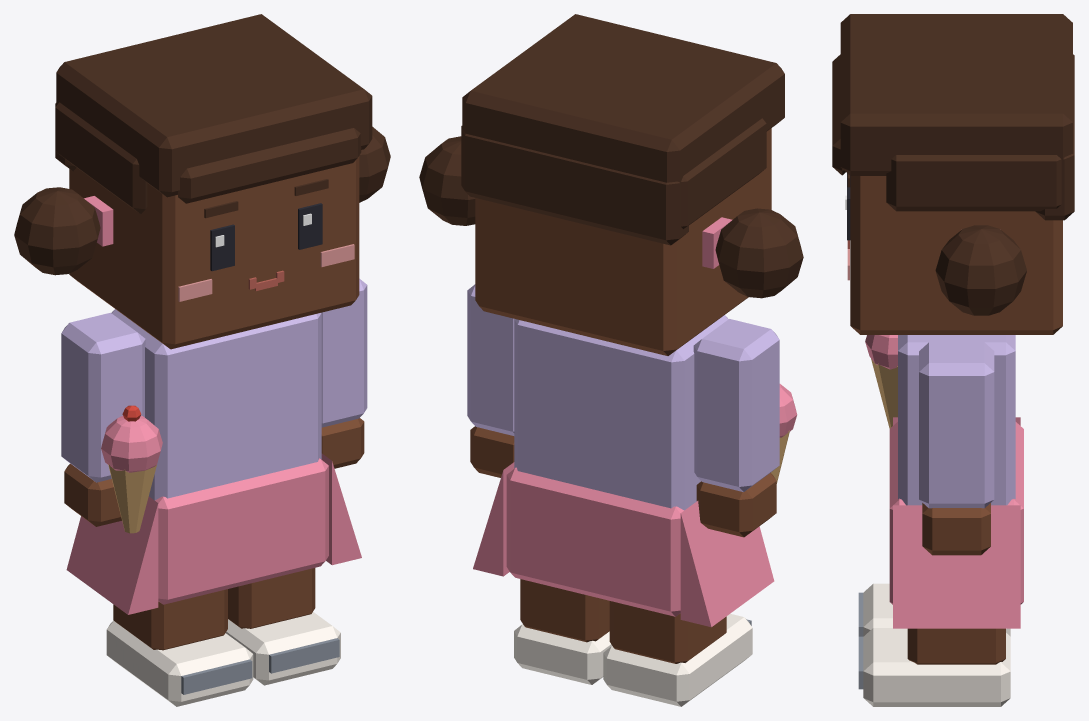
File: CatCafe_NPC_Customer_G.glb
3 renders of one model, left to right at view 1: azimuth 30°, elevation 25°; view 2: azimuth 150°, elevation 25°; view 3: azimuth 270°, elevation 25°, orthographic. The views are drawn at different scales.
Parts seen in each view (by area): view 1: CatCafe_NPC_Customer_G; view 2: CatCafe_NPC_Customer_G; view 3: CatCafe_NPC_Customer_G.
Boxes of the visible parts, x1,y1,x2,y2 form: CatCafe_NPC_Customer_G: [14, 14, 390, 706]; CatCafe_NPC_Customer_G: [419, 14, 803, 706]; CatCafe_NPC_Customer_G: [832, 14, 1074, 706].
Bounding box in the file's own units: 2.65 × 4.07 × 1.48.
Materials: 1 (1 with a texture image).
